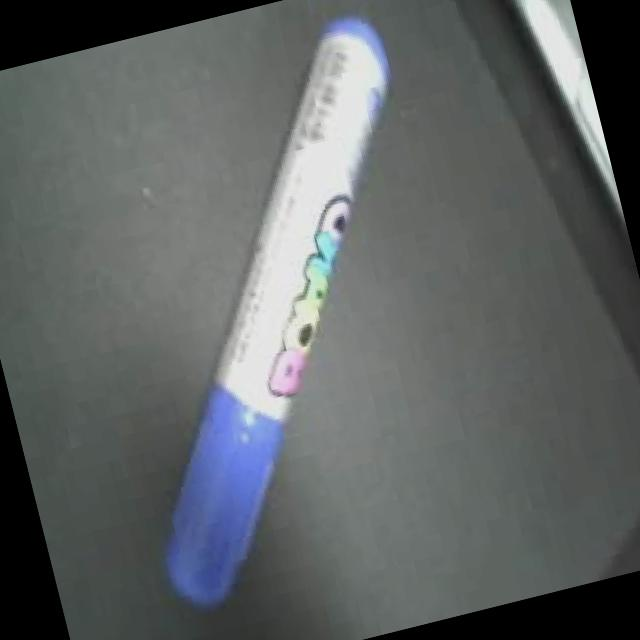board-marker: (155, 8, 405, 616)
